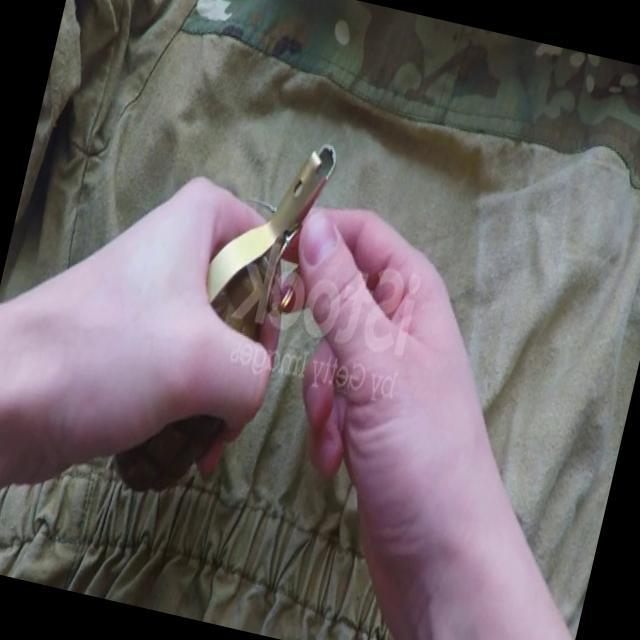grenade: (101, 111, 341, 522)
